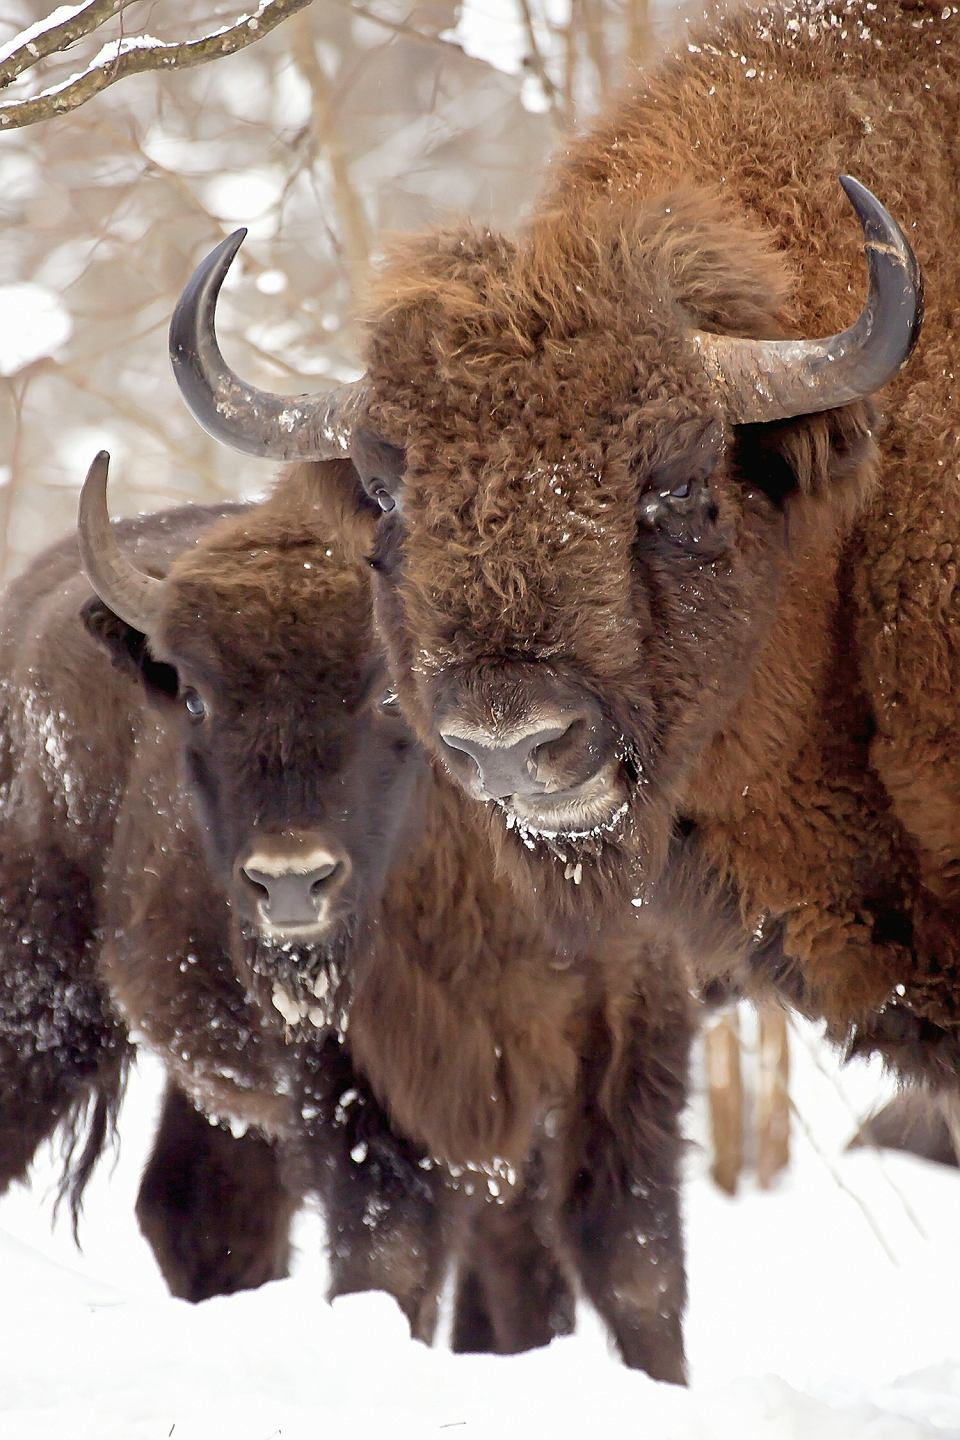zubr: (140, 14, 960, 1035), (74, 460, 735, 1380)
